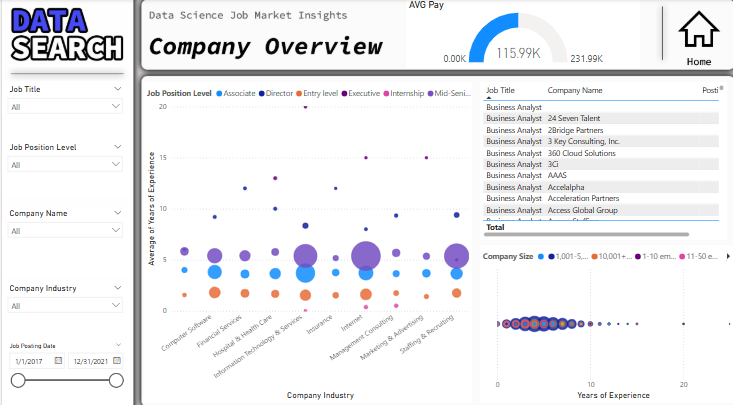

Layout of this report page (visuals, bound fields, positions):
{"tool":"powerbi","page":{"name":"Company","canvas":[1280,720],"ordinal":3},"visuals":[{"type":"slicer","fields":{"Values":["job_postings.Job Title"]},"box":[0,144,220.4,101.3],"z":0},{"type":"slicer","fields":{"Values":["job_postings.Job Position Level"]},"box":[0,245.3,220.4,97.8],"z":1},{"type":"slicer","fields":{"Values":["job_postings.Company Name"]},"box":[0,360.9,220.4,122.7],"z":2},{"type":"slicer","fields":{"Values":["job_postings.Company Industry"]},"box":[0,490.7,220.4,101.3],"z":3},{"type":"slicer","fields":{"Values":["job_postings.Job Posting Date"]},"box":[0,592,220.4,128],"z":4},{"type":"tableEx","fields":{"Values":["job_postings.Job Title","job_postings.Company Name","__Measure.Posting count"]},"box":[832.4,144.5,430.1,275.2],"z":5},{"type":"scatterChart","fields":{"Series":["job_postings.Job Position Level"],"X":["job_postings.Company Industry"],"Y":["Avg(job_postings.Years of Experience)"],"Size":["__Measure.Posting count"]},"box":[247.3,144.5,571.2,559],"z":6},{"type":"scatterChart","fields":{"Size":["__Measure.Posting count"],"X":["job_postings.Years of Experience"],"Series":["job_postings.Company Size"]},"box":[832.4,428.4,447.6,275.2],"z":7},{"type":"gauge","fields":{"Y":["__Measure.AVG OF AVG Pay"]},"box":[703.6,0,407.5,120.2],"z":8},{"type":"image","box":[1172,0,83.6,104.5],"z":9}]}

Visuals, with their boxes in screenshot pixels (x1, y1, x2, y2), scaled from the page's 1280x720 canvas onto the 733x405 screenshot:
slicer - job_postings.Job Title: Rect(0, 81, 126, 138)
slicer - job_postings.Job Position Level: Rect(0, 138, 126, 193)
slicer - job_postings.Company Name: Rect(0, 203, 126, 272)
slicer - job_postings.Company Industry: Rect(0, 276, 126, 333)
slicer - job_postings.Job Posting Date: Rect(0, 333, 126, 404)
tableEx - job_postings.Job Title x job_postings.Company Name: Rect(477, 81, 723, 236)
scatterChart - job_postings.Job Position Level x job_postings.Company Industry: Rect(142, 81, 469, 396)
scatterChart - __Measure.Posting count x job_postings.Years of Experience: Rect(477, 241, 732, 396)
gauge - __Measure.AVG OF AVG Pay: Rect(403, 0, 636, 68)
image: Rect(671, 0, 719, 59)
